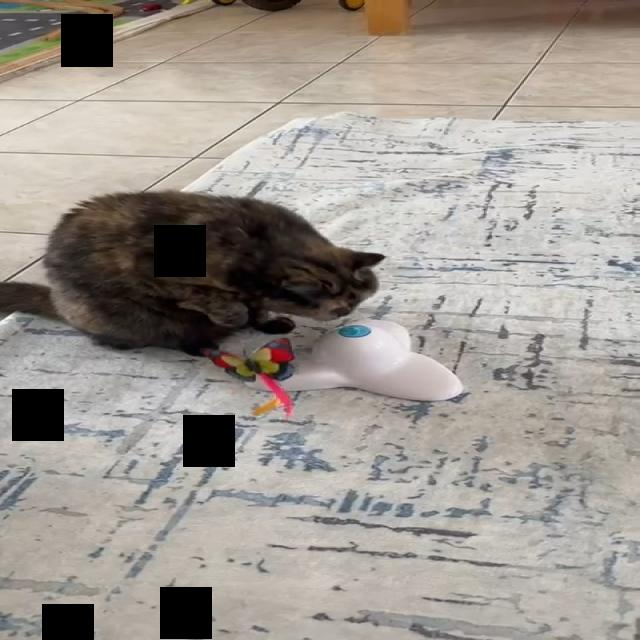authorized: (0, 188, 385, 356)
